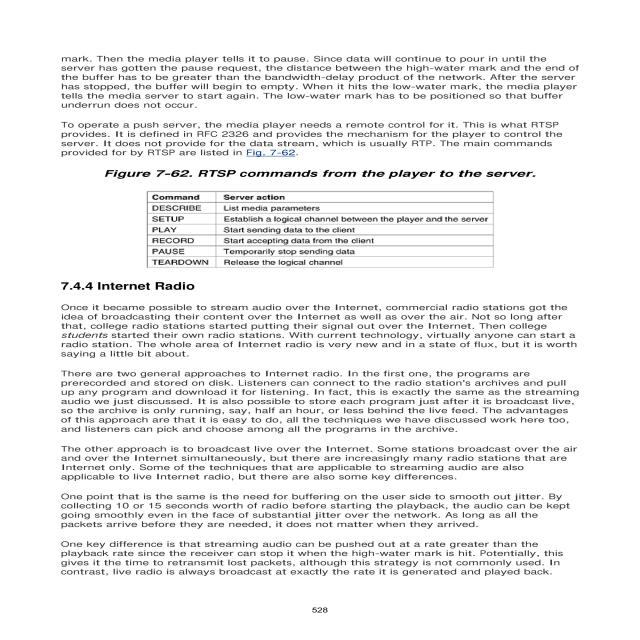diagram: (66, 159, 586, 275)
